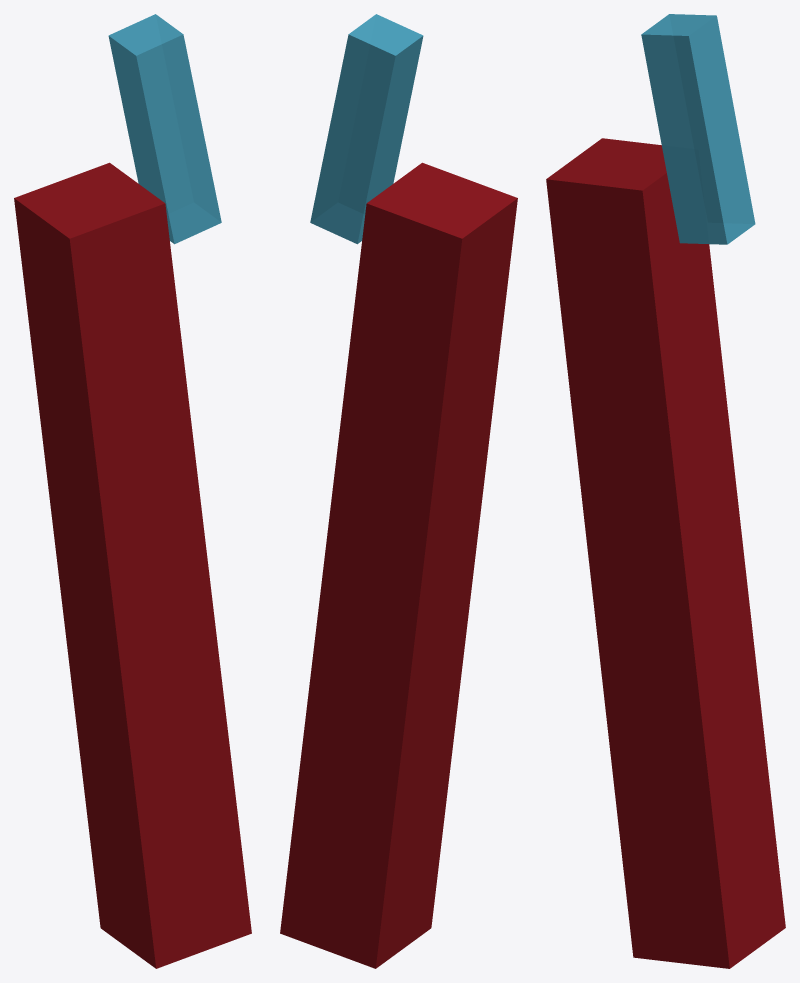
Rendered from ANM_P2_Rift_Shard_A.obj.
3 renders of one model, left to right at view 1: azimuth 30°, elevation 25°; view 2: azimuth 150°, elevation 25°; view 3: azimuth 330°, elevation 25°, orthographic.
Parts seen in each view (by area): view 1: shard_body, shard_tip; view 2: shard_body, shard_tip; view 3: shard_body, shard_tip.
Part boxes in pixels (x1,y1,x2,y2): shard_body: (14, 162, 251, 968); shard_tip: (108, 14, 221, 244); shard_body: (280, 162, 517, 968); shard_tip: (310, 14, 423, 244); shard_body: (546, 138, 785, 968); shard_tip: (641, 14, 755, 244).
Bounding box in the file's own units: 0.2269 × 1.09 × 0.12.
